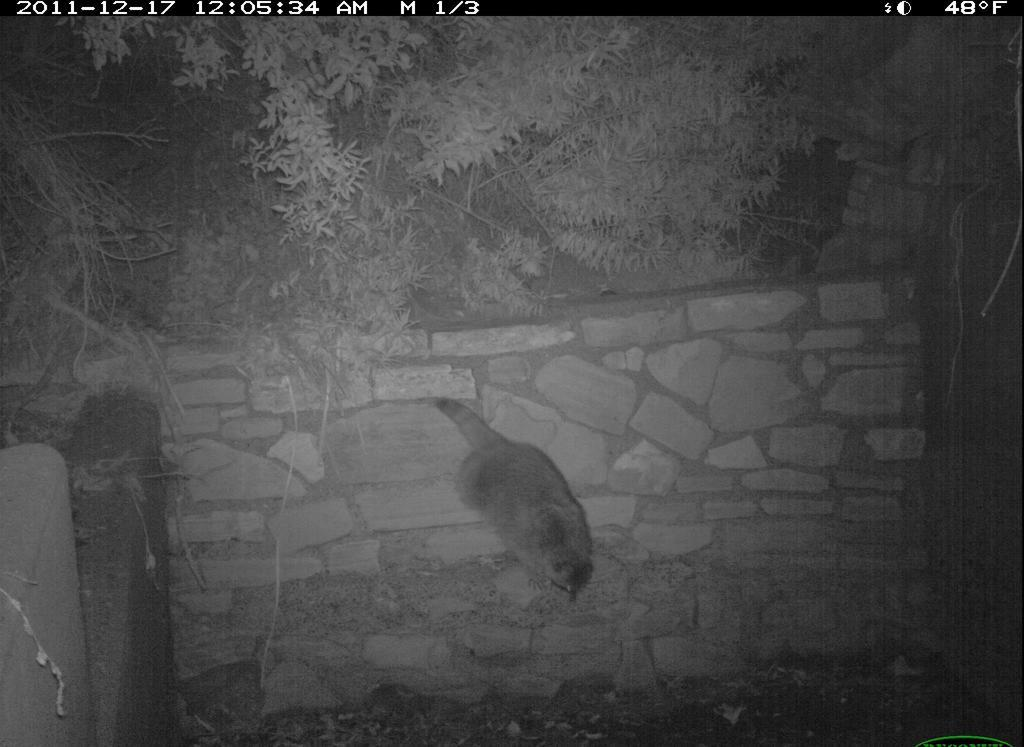raccoon: (405, 376, 606, 610)
